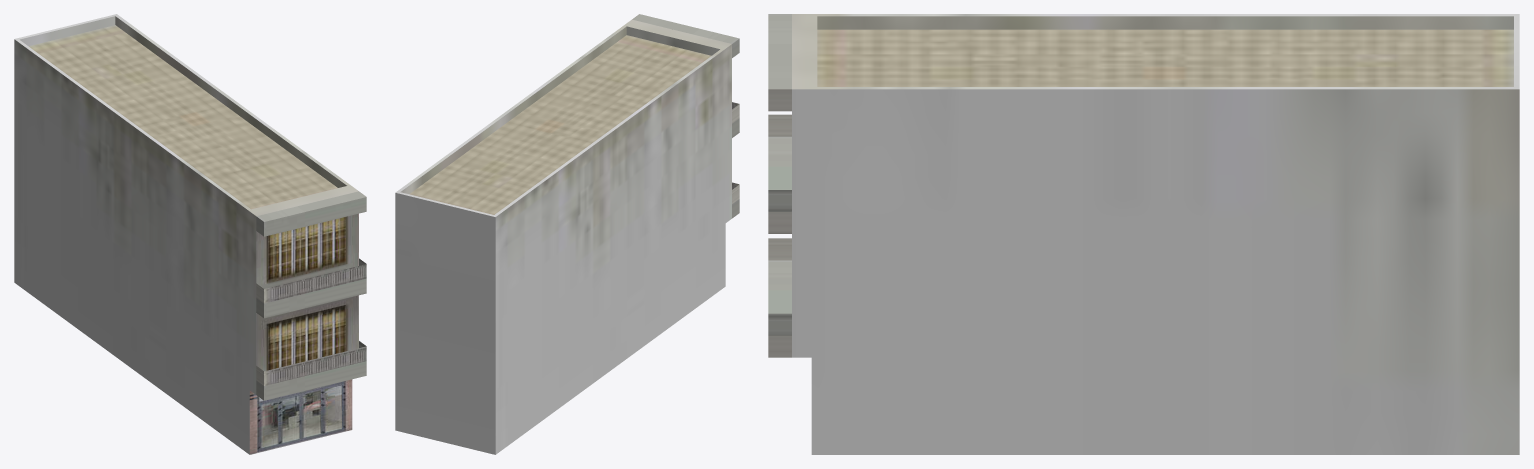
3 renders of one model, left to right at view 1: azimuth 30°, elevation 25°; view 2: azimuth 150°, elevation 25°; view 3: azimuth 270°, elevation 25°, orthographic. The views are drawn at different scales.
Parts seen in each view (by area): view 1: 5db0034a68789d138cbebce0.001; view 2: 5db0034a68789d138cbebce0.001; view 3: 5db0034a68789d138cbebce0.001.
Boxes of the visible parts, <box> form: 5db0034a68789d138cbebce0.001: <box>14,14,366,454</box>; 5db0034a68789d138cbebce0.001: <box>395,14,739,454</box>; 5db0034a68789d138cbebce0.001: <box>768,14,1519,454</box>.
Size of the model in its own units: 6.31 by 14.3 by 26.61.
1 material, 1 textured.
